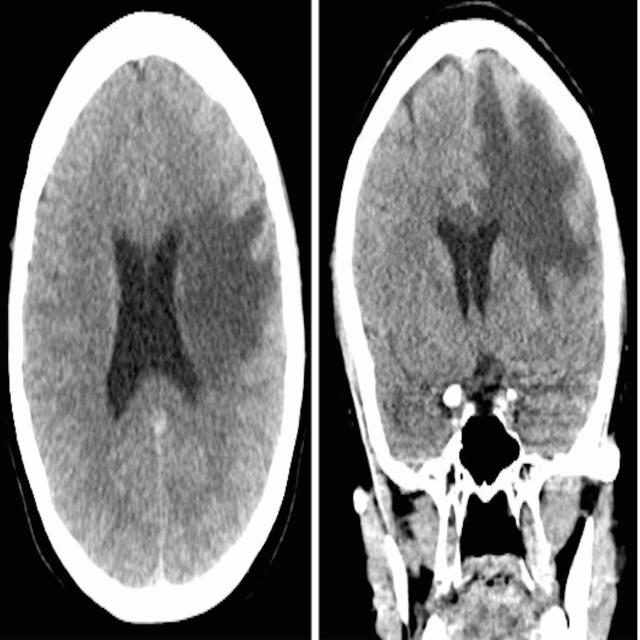Tumor: (150, 400, 173, 446), (492, 382, 519, 420), (442, 382, 464, 410)
